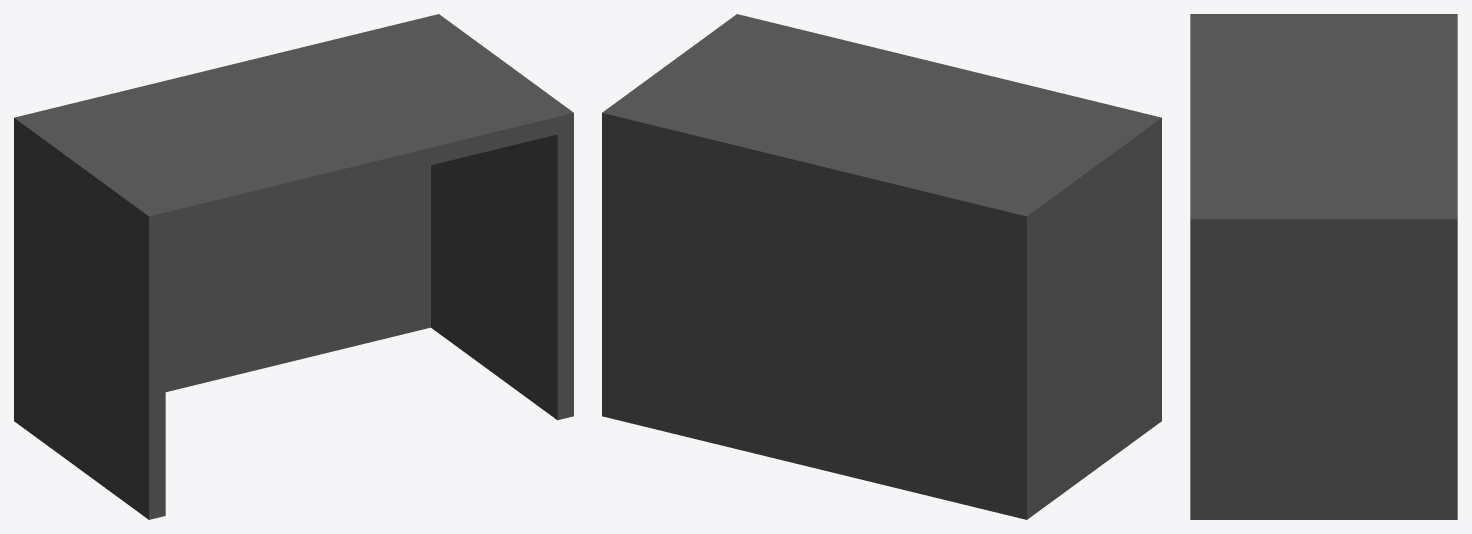
Rendered from Itr_Wardrobe2_Body2_04.FBX.
3 views of the same model, side by side, from view 1: azimuth 30°, elevation 25°; view 2: azimuth 150°, elevation 25°; view 3: azimuth 270°, elevation 25° (orthographic).
Parts seen in each view (by area): view 1: Itr_Wardrobe2_Body2_04; view 2: Itr_Wardrobe2_Body2_04; view 3: Itr_Wardrobe2_Body2_04.
Boxes of the visible parts, x1,y1,x2,y2 form: Itr_Wardrobe2_Body2_04: (14, 14, 573, 519); Itr_Wardrobe2_Body2_04: (602, 14, 1161, 519); Itr_Wardrobe2_Body2_04: (1190, 14, 1457, 519).
Bounding box in the file's own units: 39.14 × 26.71 × 21.54.
